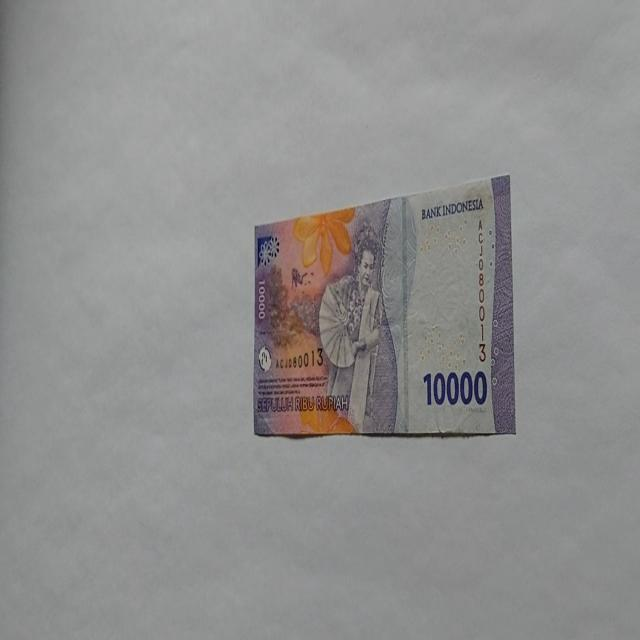sepuluh ribu rupiah: (252, 172, 516, 440), (420, 194, 484, 220)
